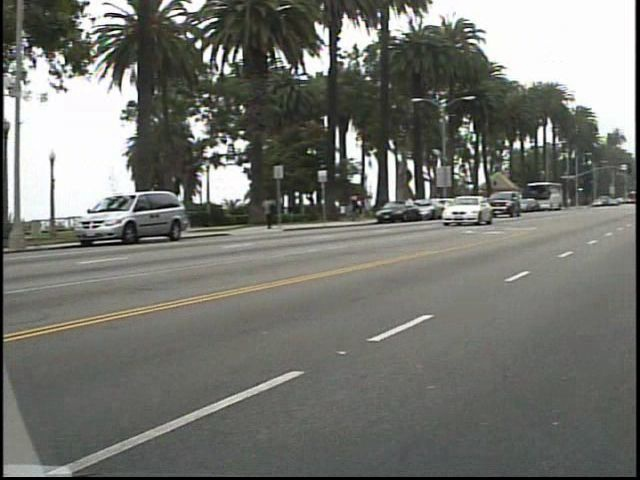person: (267, 192, 288, 231), (353, 188, 373, 223)
